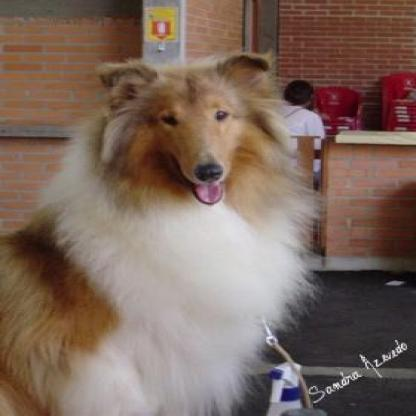collie: (0, 52, 308, 414)
